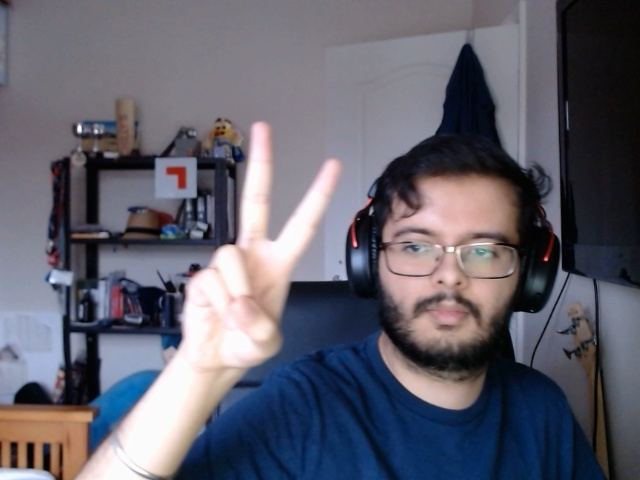Peace: (150, 110, 358, 380)
